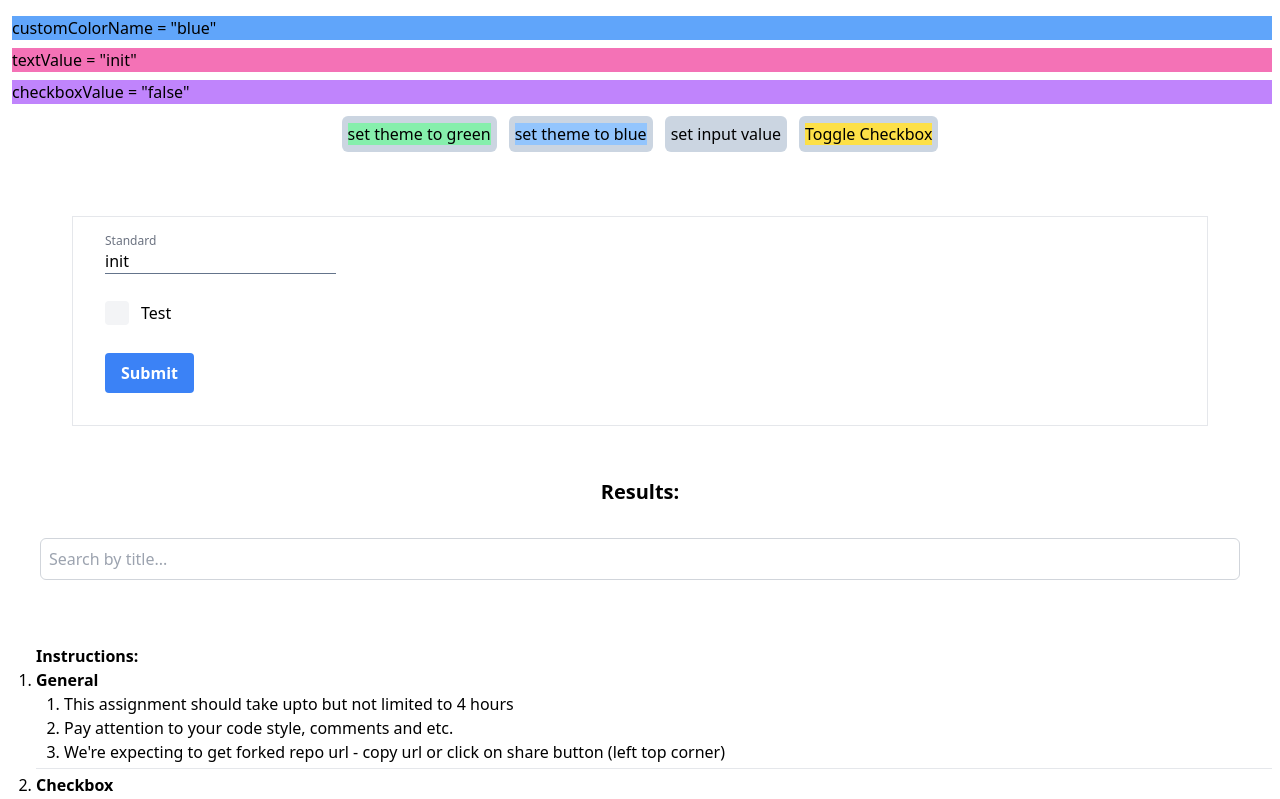
HomePage component › toggles checkbox state on button click
The width and height of the screenshot is (1280, 799).
Click the button "Toggle Checkbox".
click(869, 134)  # box [799,116,938,152]
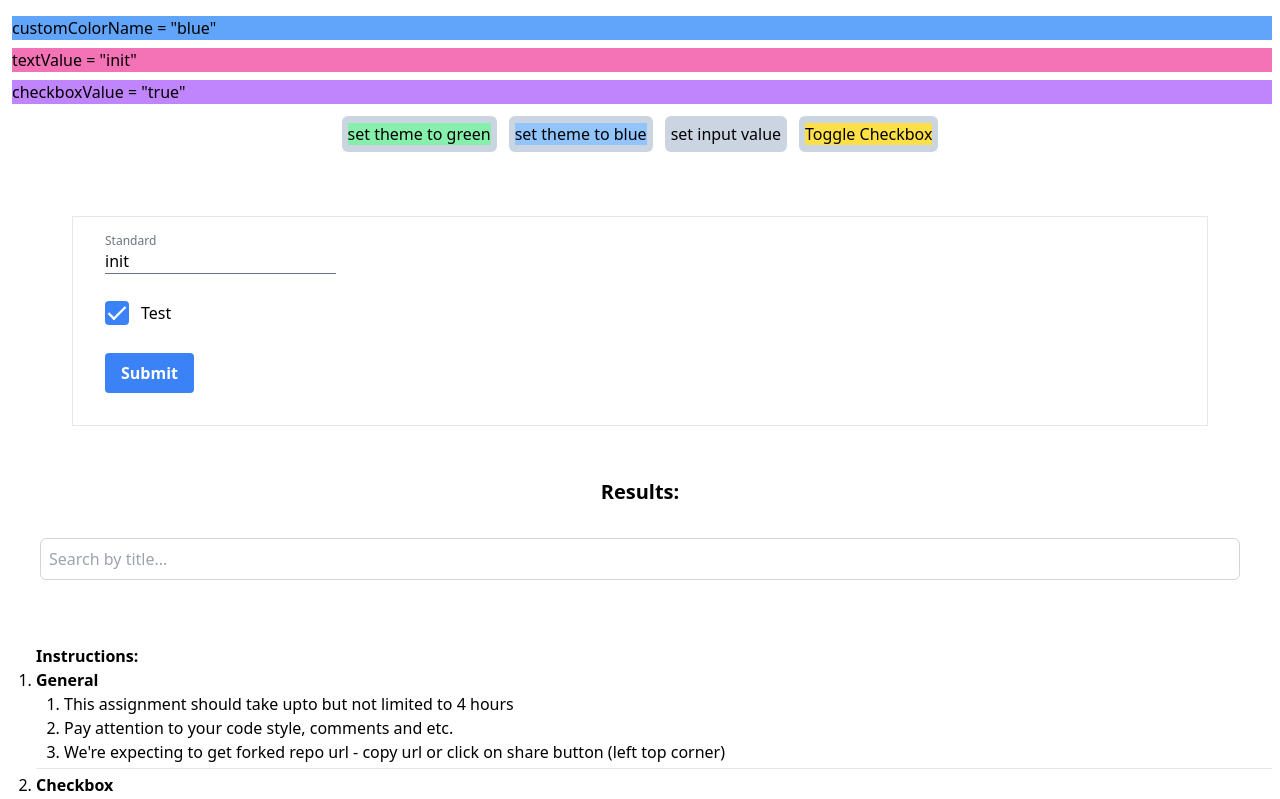
Check: the text "checkboxValue = \"true\"" is shown, box [12,80,1272,104]
Click the button "Toggle Checkbox".
click(869, 134)  # box [799,116,938,152]
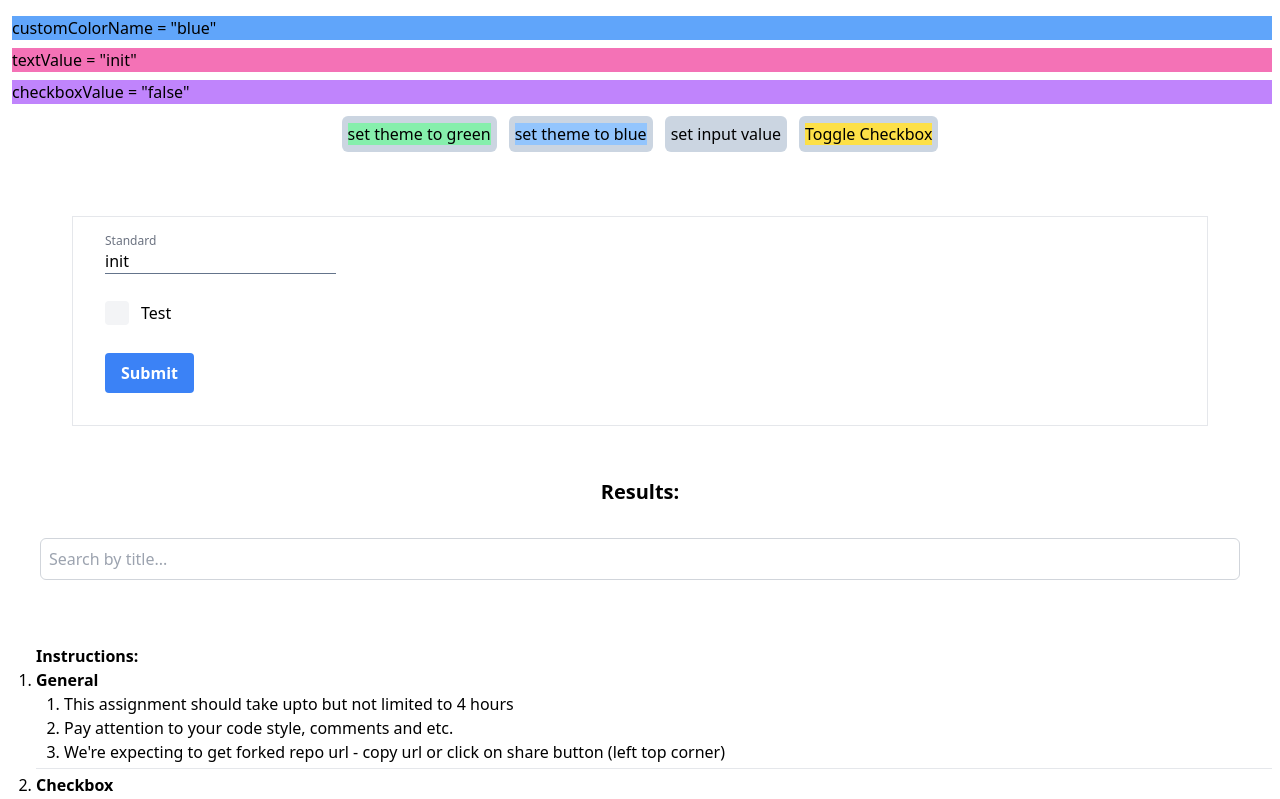
Check: the text "checkboxValue = \"false\"" is shown, box [12,80,1272,104]
